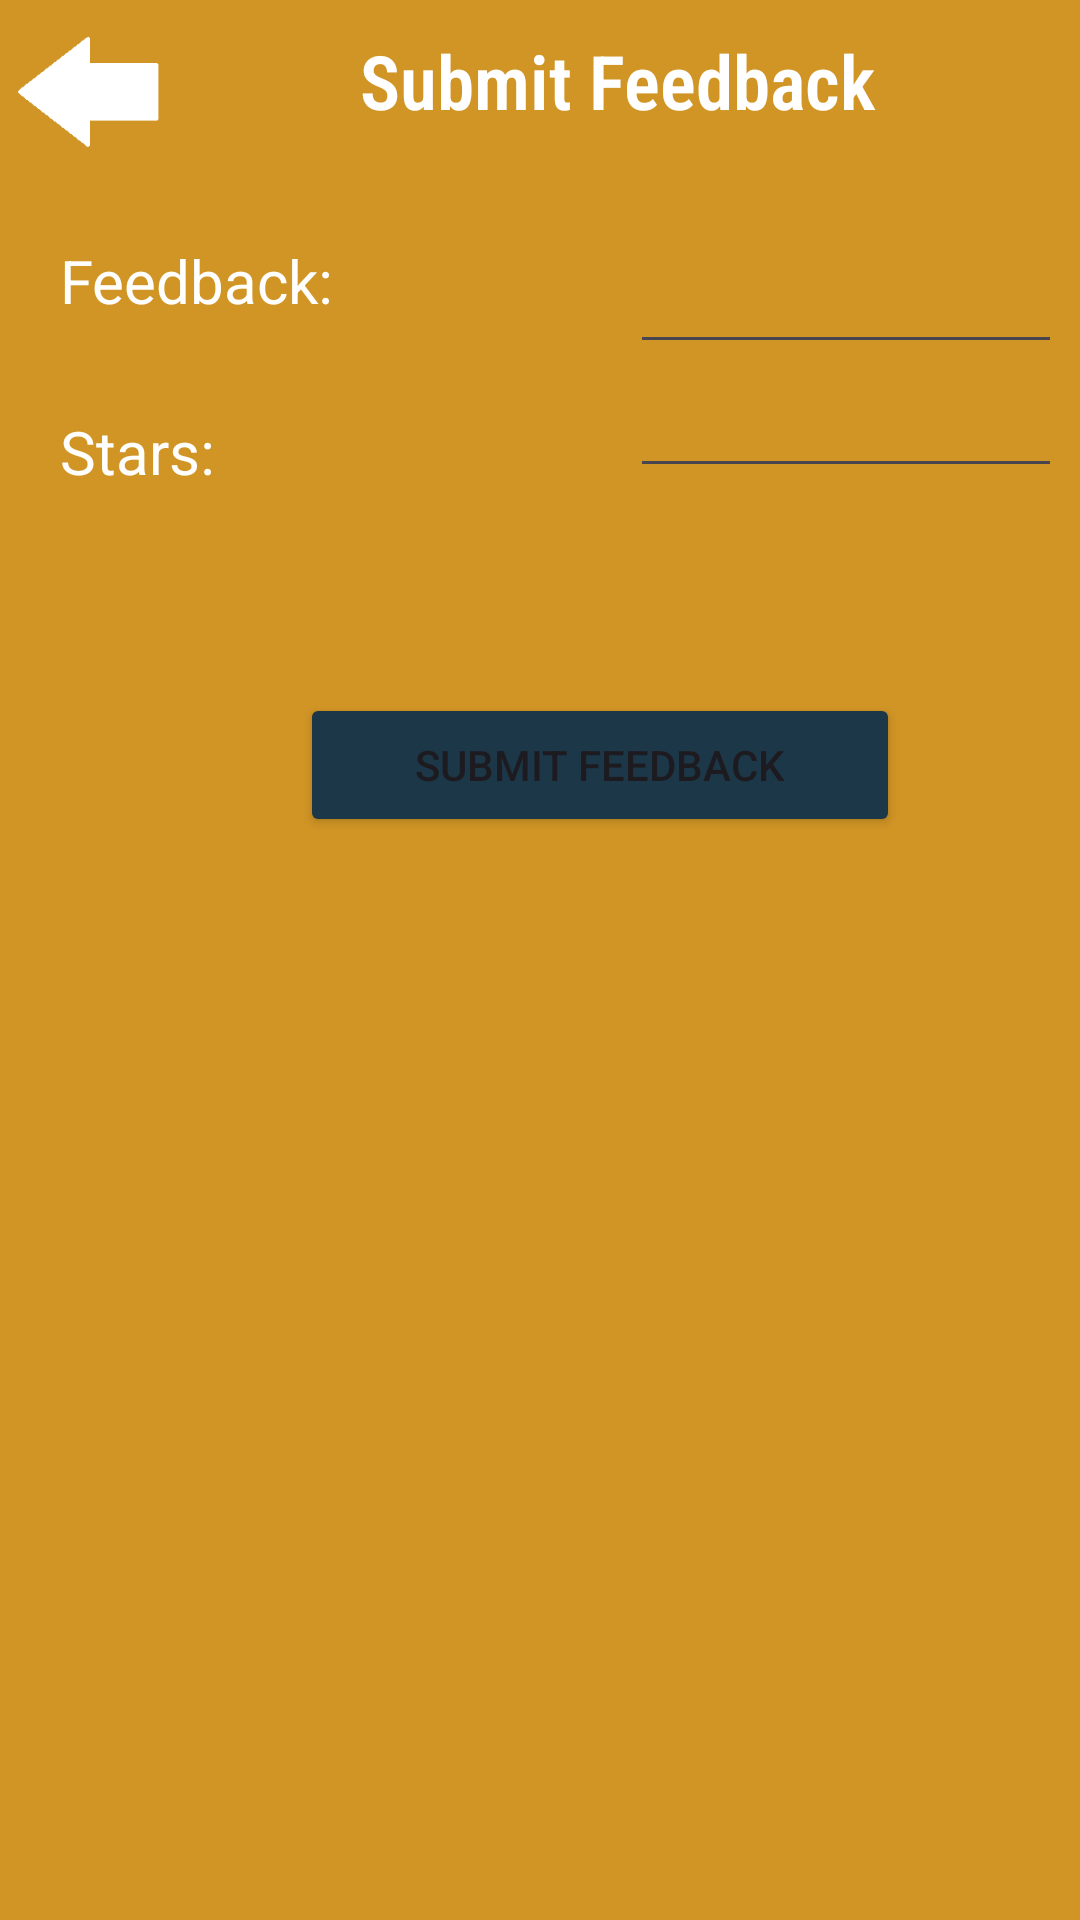

Screen size 1080w x 1920h. Icon name, then its center in pixels as point (x, y):
backarrow: point (88, 92)
